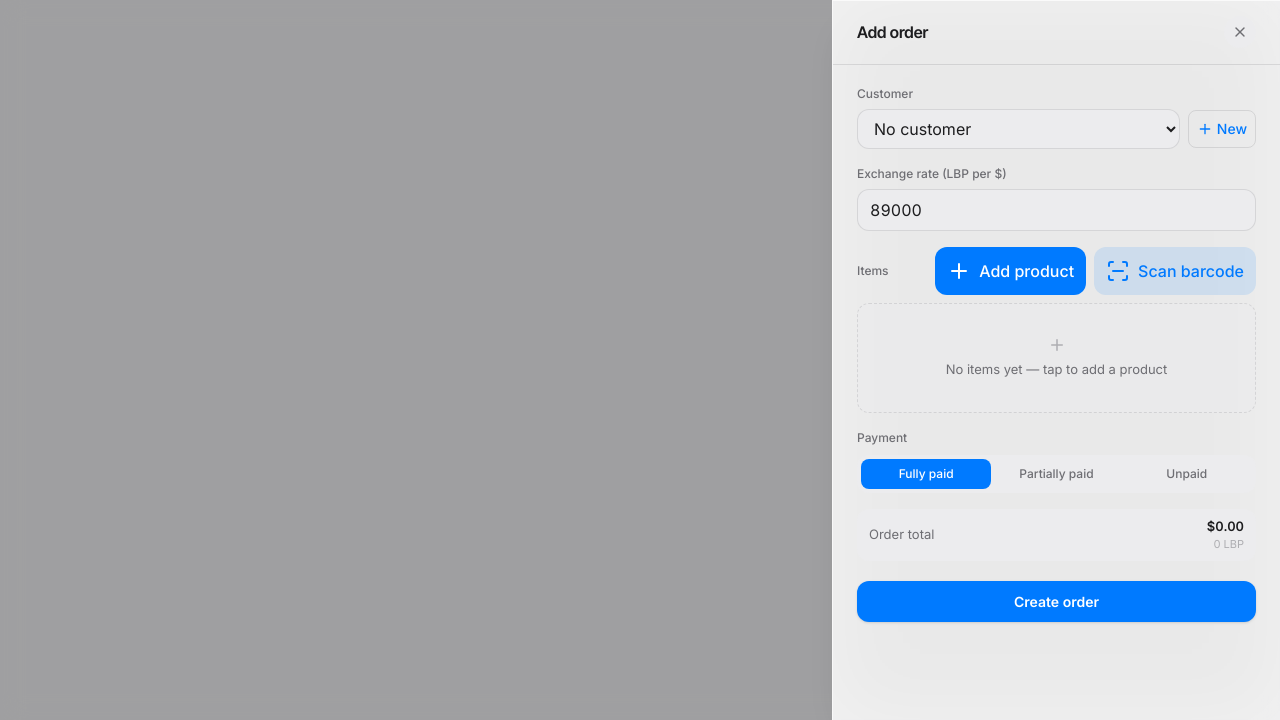
Scenario: OrderForm stock gating › blocks submission once the order exceeds stock
This screenshot has width=1280, height=720.
Click the button "Add product" at (1011, 271), box [935, 247, 1086, 295]
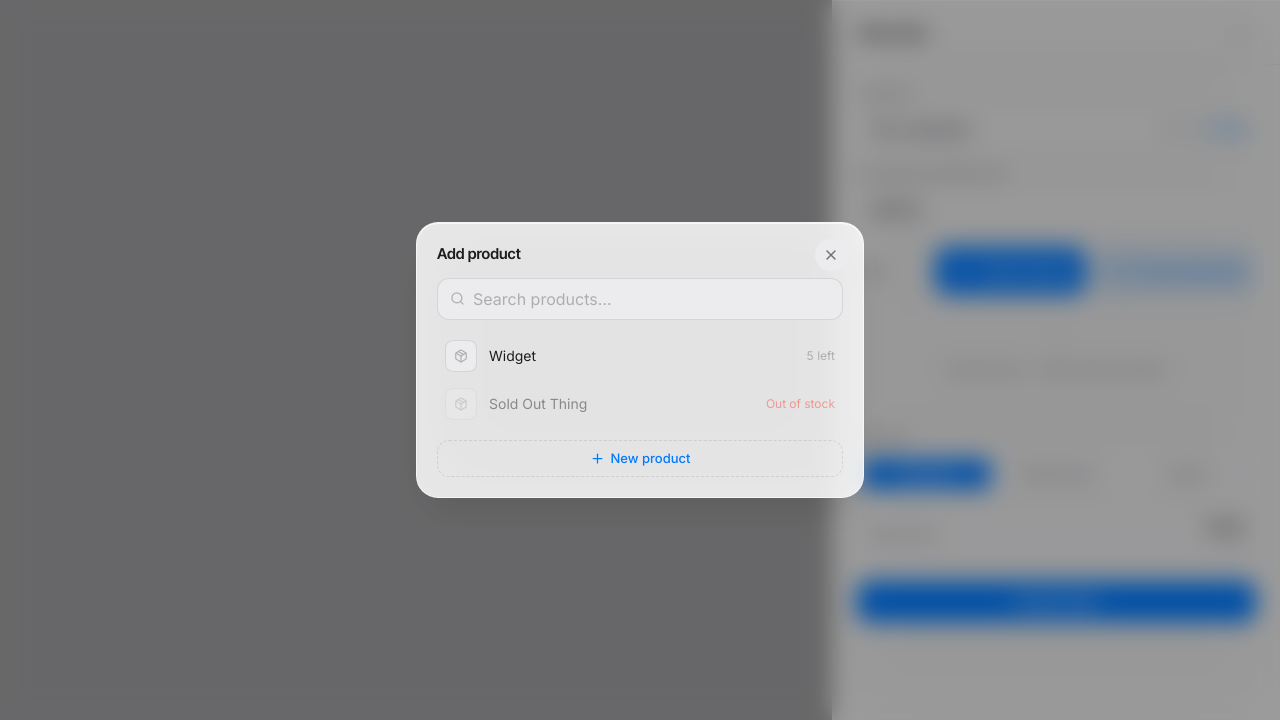
Click the button "Widget 5 left" at (461, 356), box [437, 332, 843, 380]
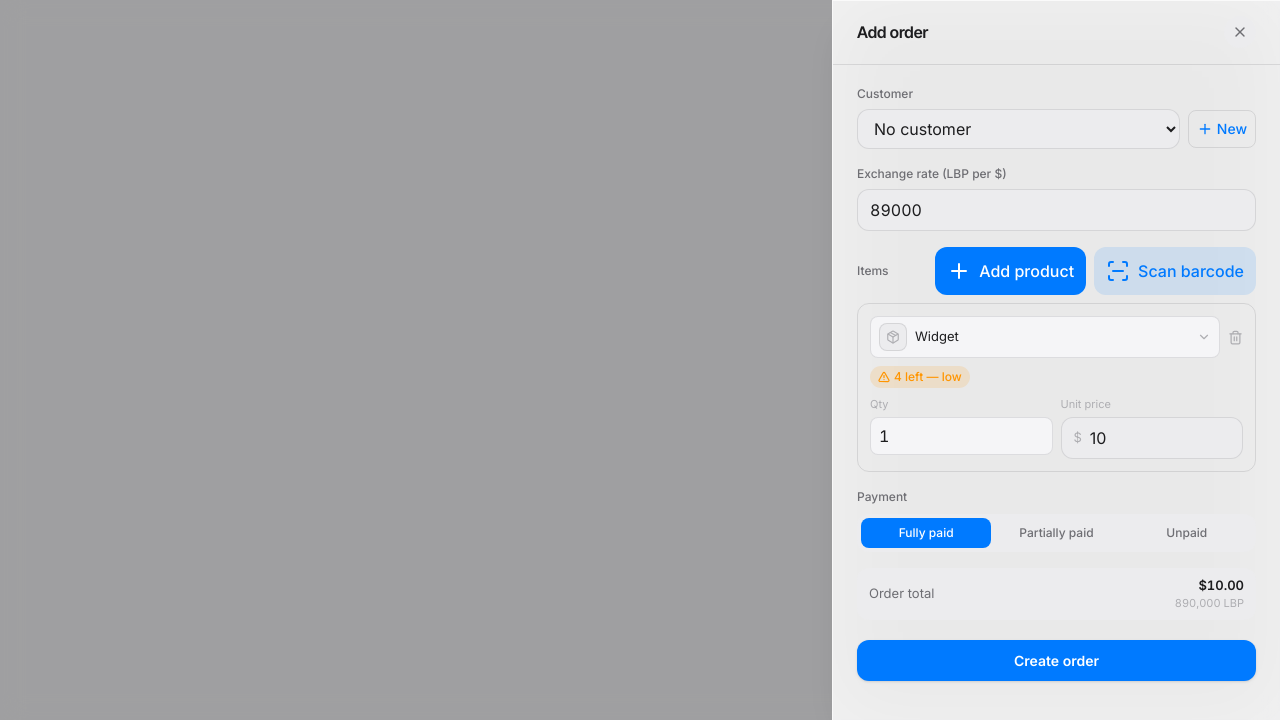
Replace the text in the 2nd number field with "9" at (961, 436), box [870, 416, 1052, 454]
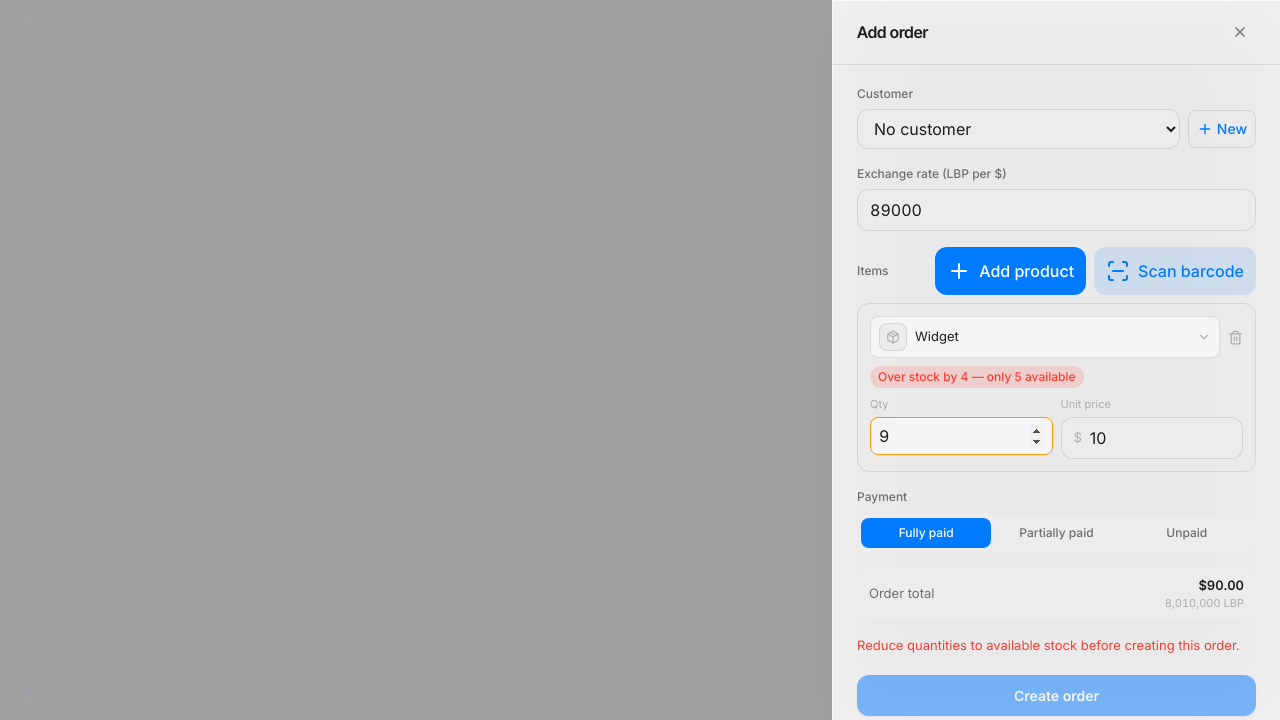
Check: the text "Over stock by 4 — only 5 available" is shown, box [870, 366, 1084, 388]
Check: the text "Reduce quantities to available stock" is shown, box [857, 636, 1124, 652]
Check: the button "Create order" is disabled, box [857, 675, 1256, 716]
